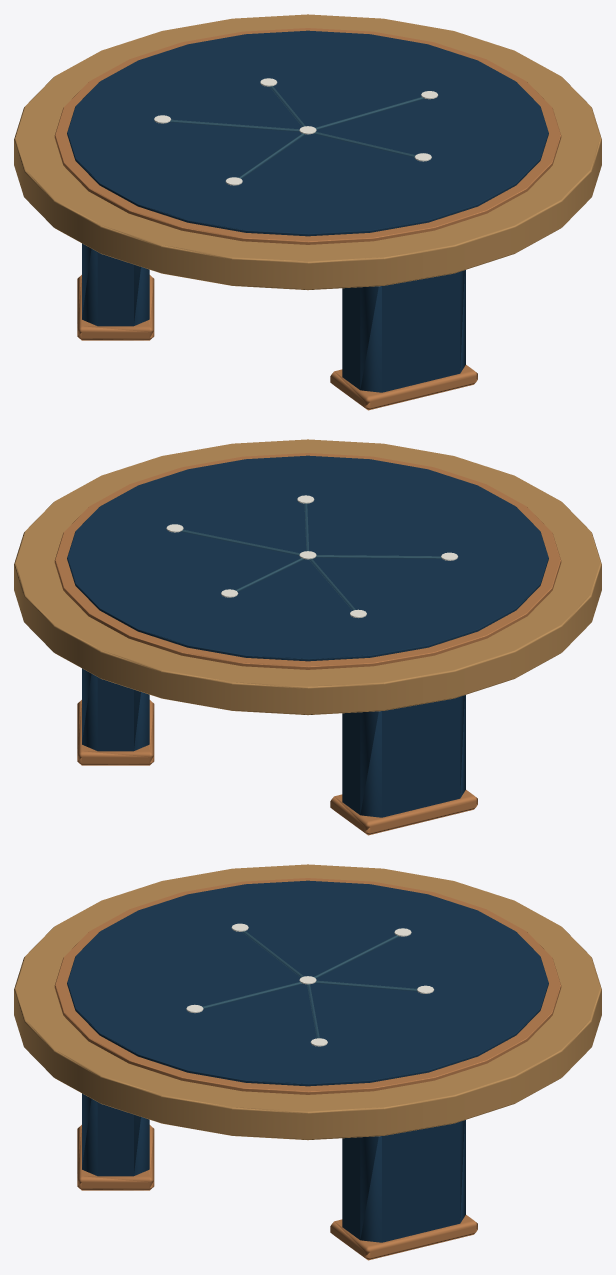
Rendered from evidence-table.fbx.
3 renders of one model, top to bottom at view 1: azimuth 30°, elevation 25°; view 2: azimuth 150°, elevation 25°; view 3: azimuth 270°, elevation 25°, orthographic.
Parts seen in each view (by area): view 1: evidence-table; view 2: evidence-table; view 3: evidence-table.
Boxes of the visible parts, x1,y1,x2,y2 form: evidence-table: [14, 14, 601, 410]; evidence-table: [14, 439, 601, 835]; evidence-table: [14, 864, 601, 1260].
Bounding box in the file's own units: 260 × 90.4 × 260.
